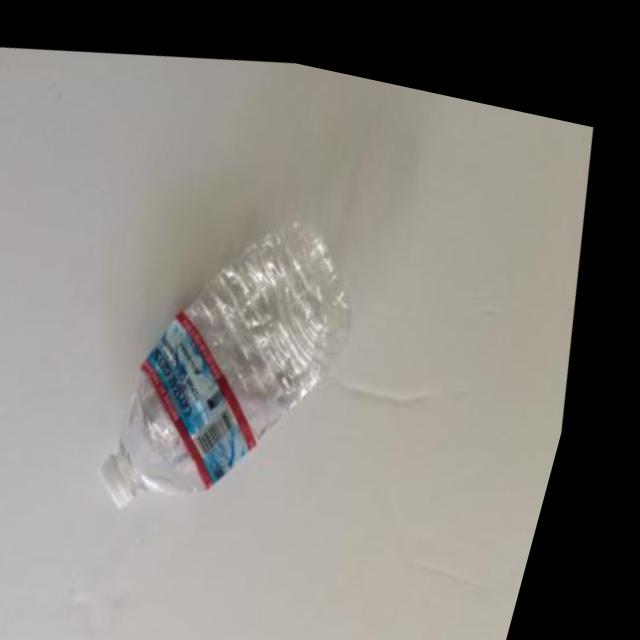plastic: (20, 132, 452, 572)
